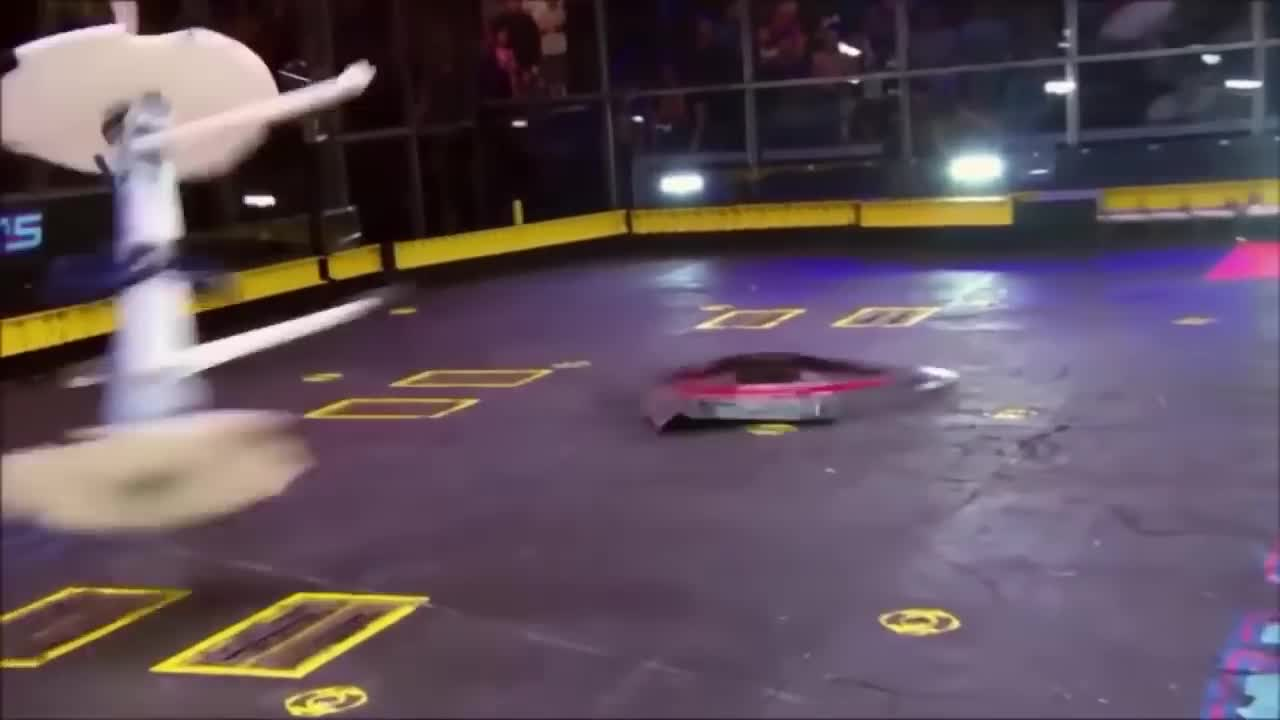combatbot: (0, 24, 316, 533), (641, 351, 958, 439)
